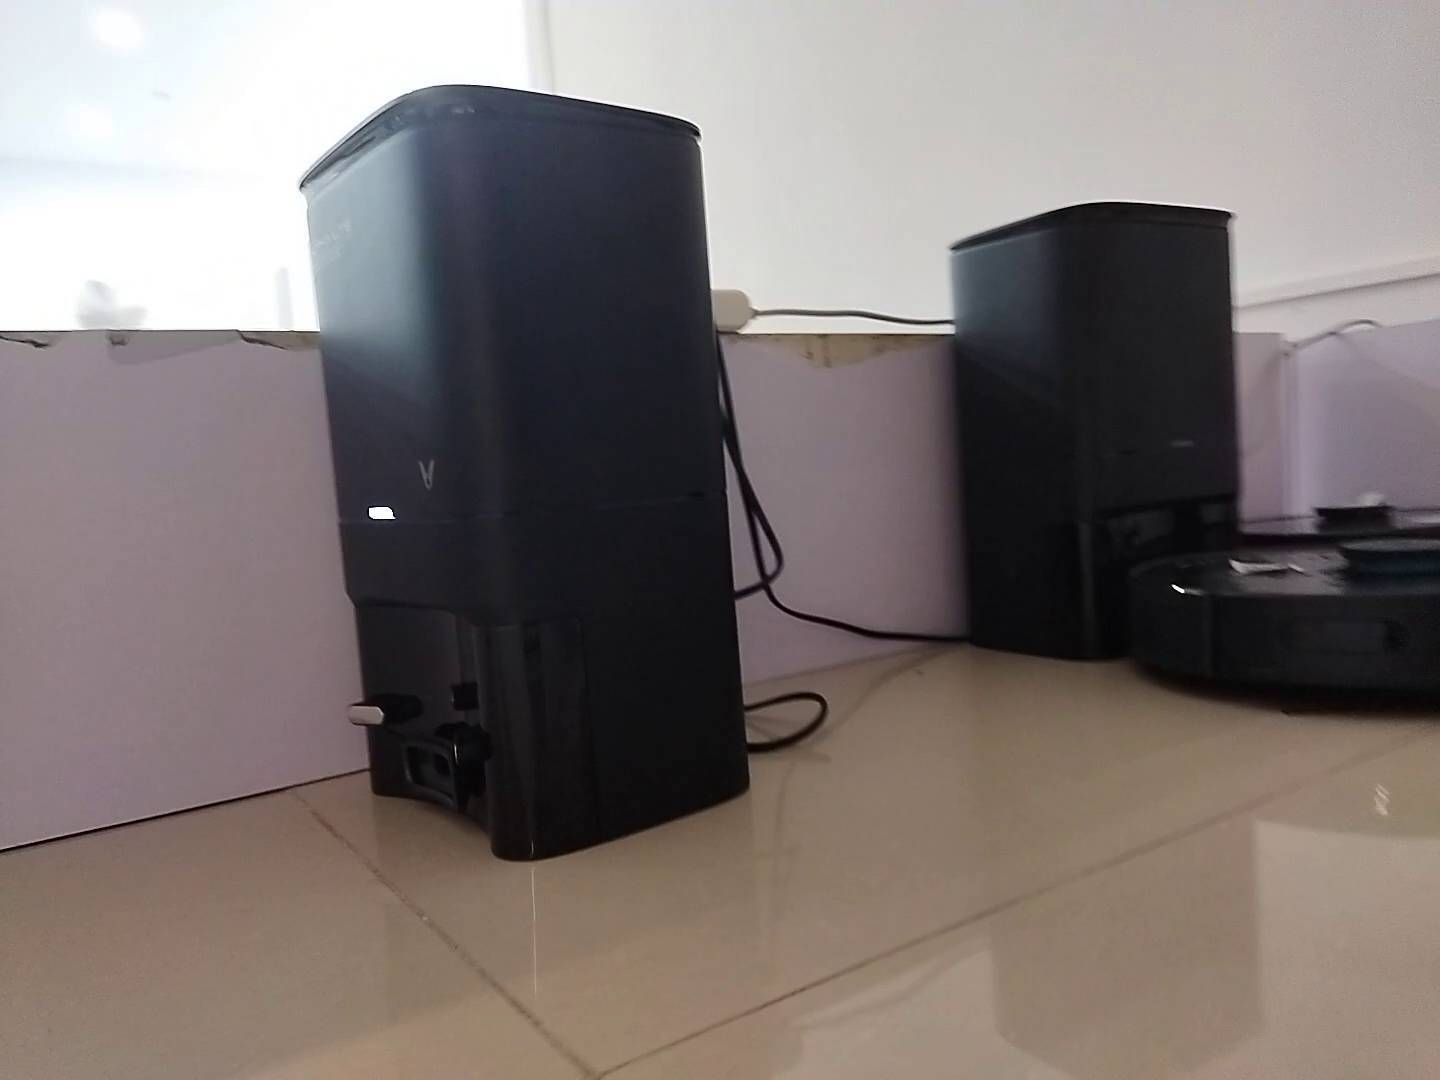dust collecting barrel: (298, 86, 749, 864), (949, 199, 1237, 666)
